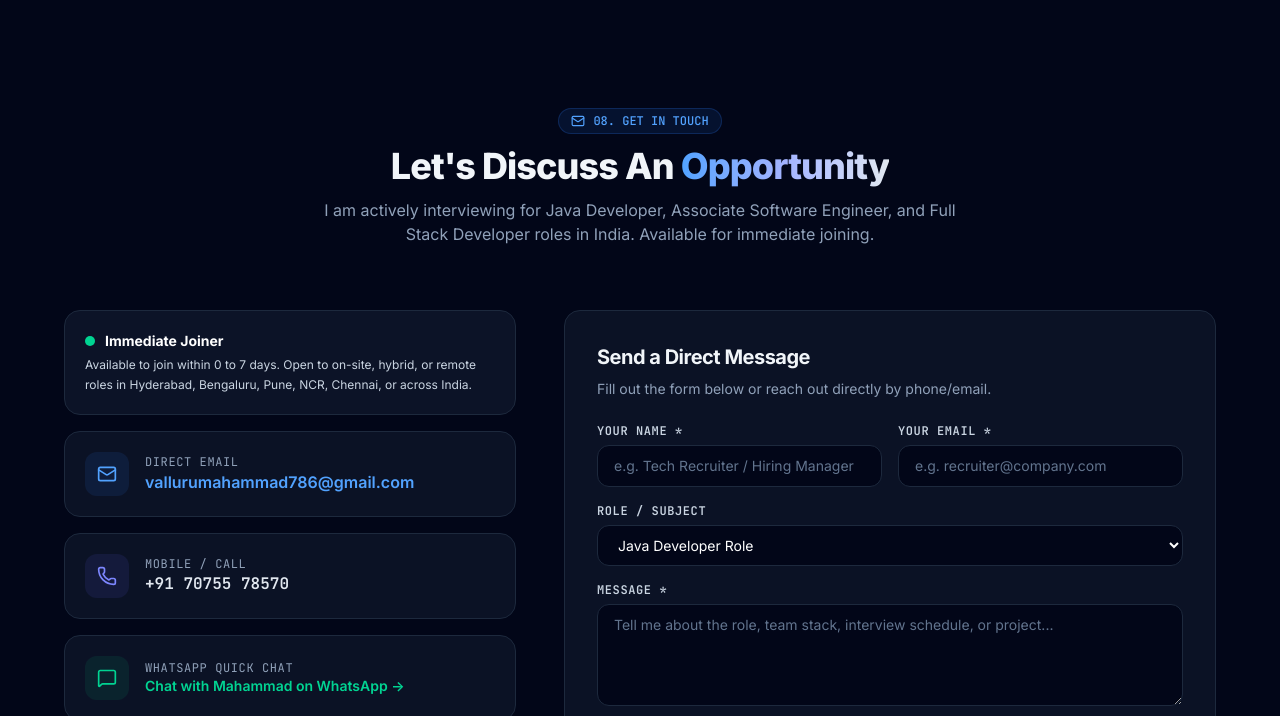
Test: Functional Tests › submits contact form and displays success state
The width and height of the screenshot is (1280, 716).
Type "Tech Recruiter" into the field labelled "Your Name *" at coordinates (740, 466), box [597,445,882,487]
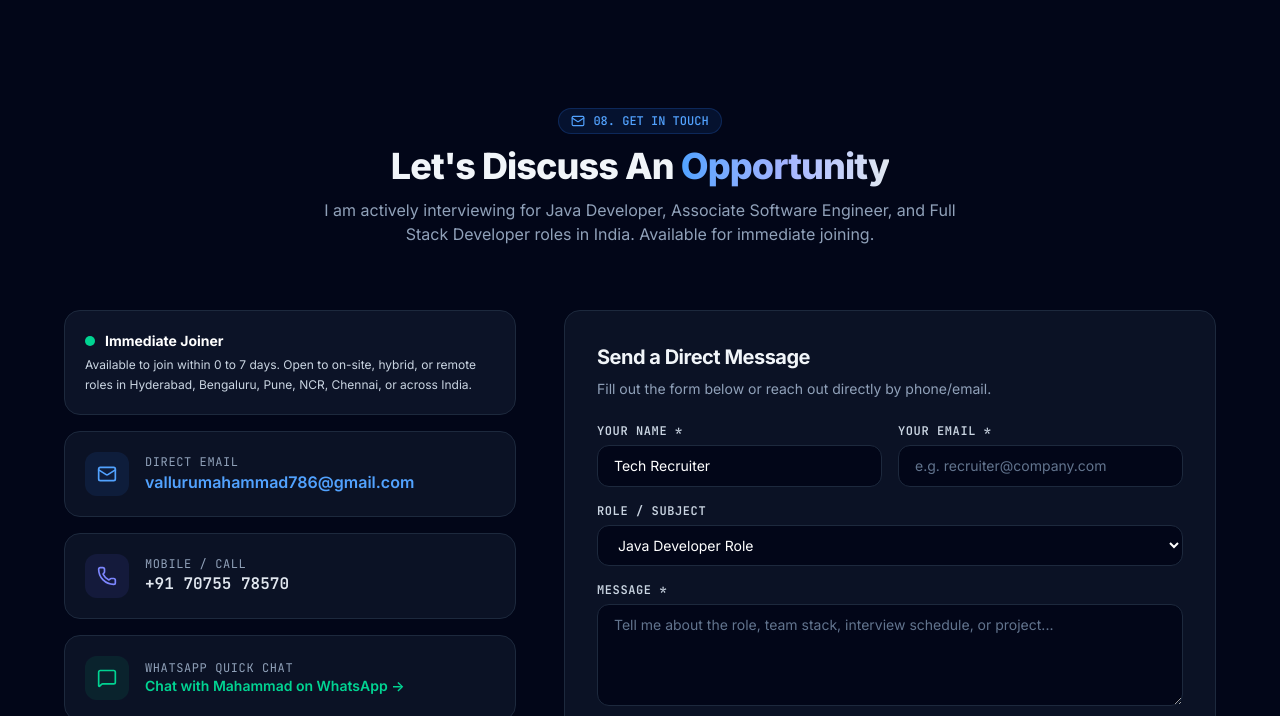
Type "recruiter@company.com" into the field labelled "Your Email *" at coordinates (1040, 466), box [898,445,1183,487]
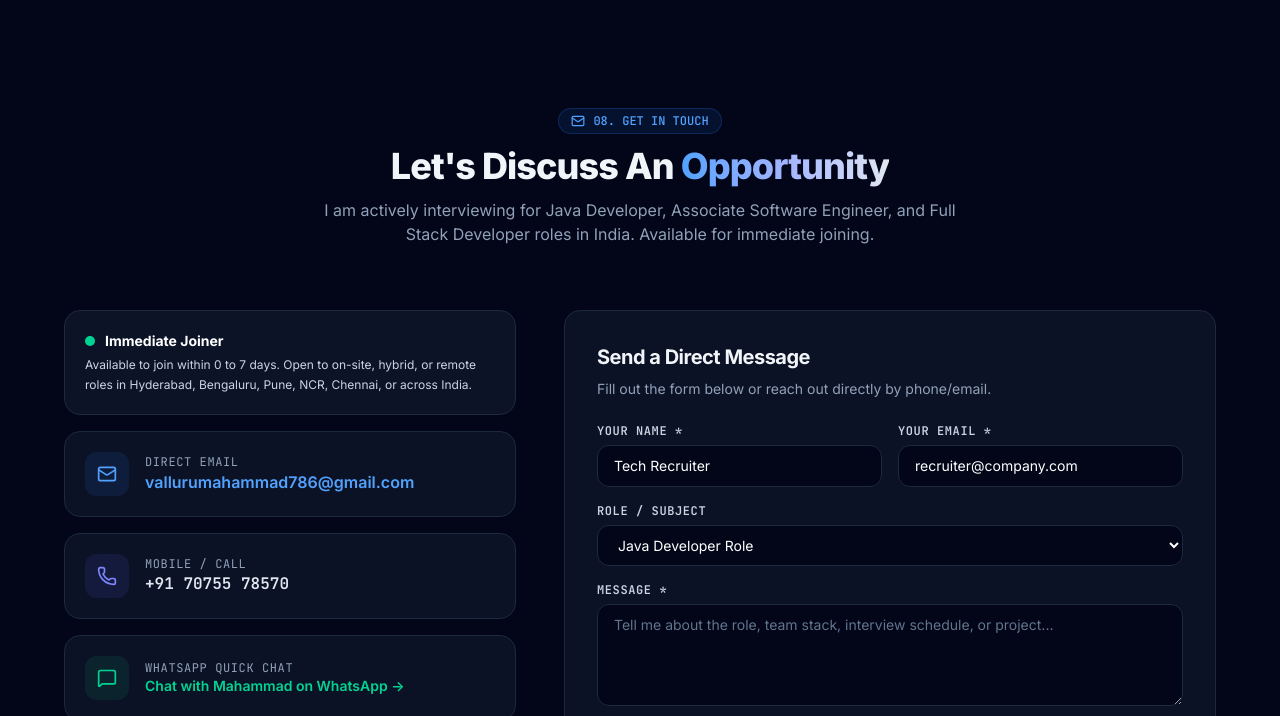
Replace the text in the text box labelled "Message *" with "We would love to interview you for a Java Developer position." at coordinates (890, 655), box [597,604,1183,706]
(page scrolled)
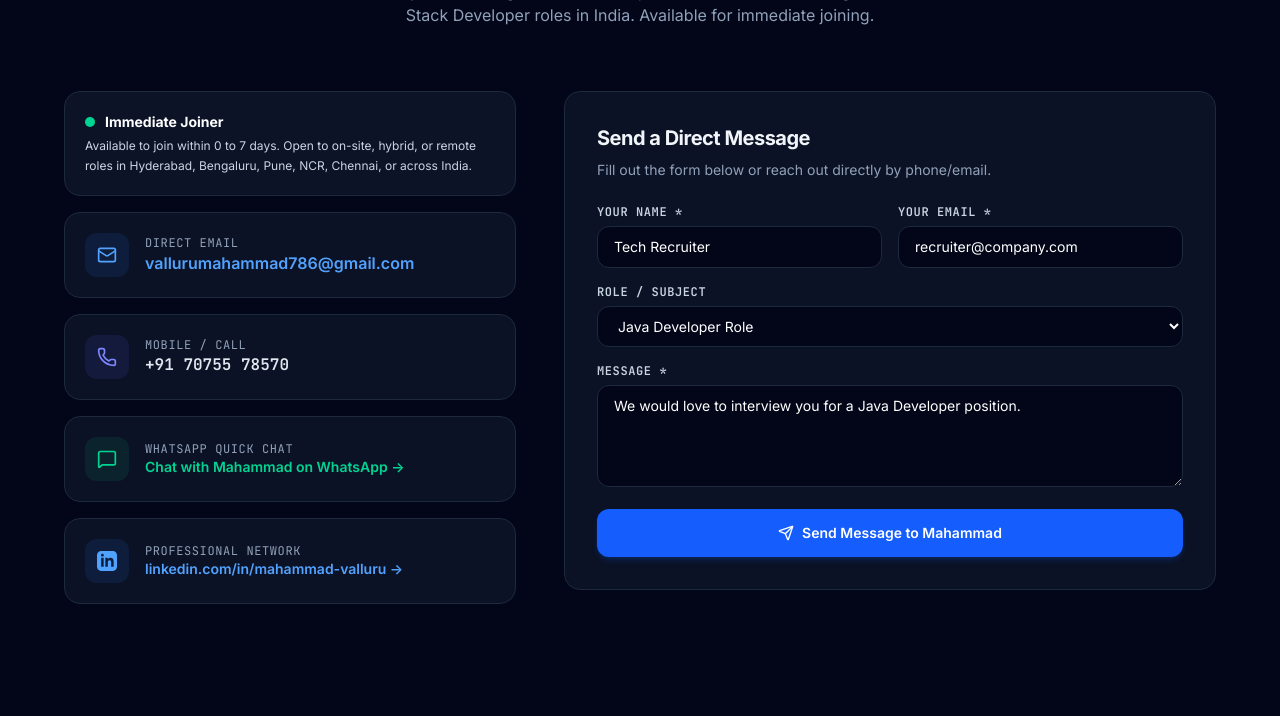
Click the button "Send Message to Mahammad" at coordinates (890, 533), box [597,509,1183,557]
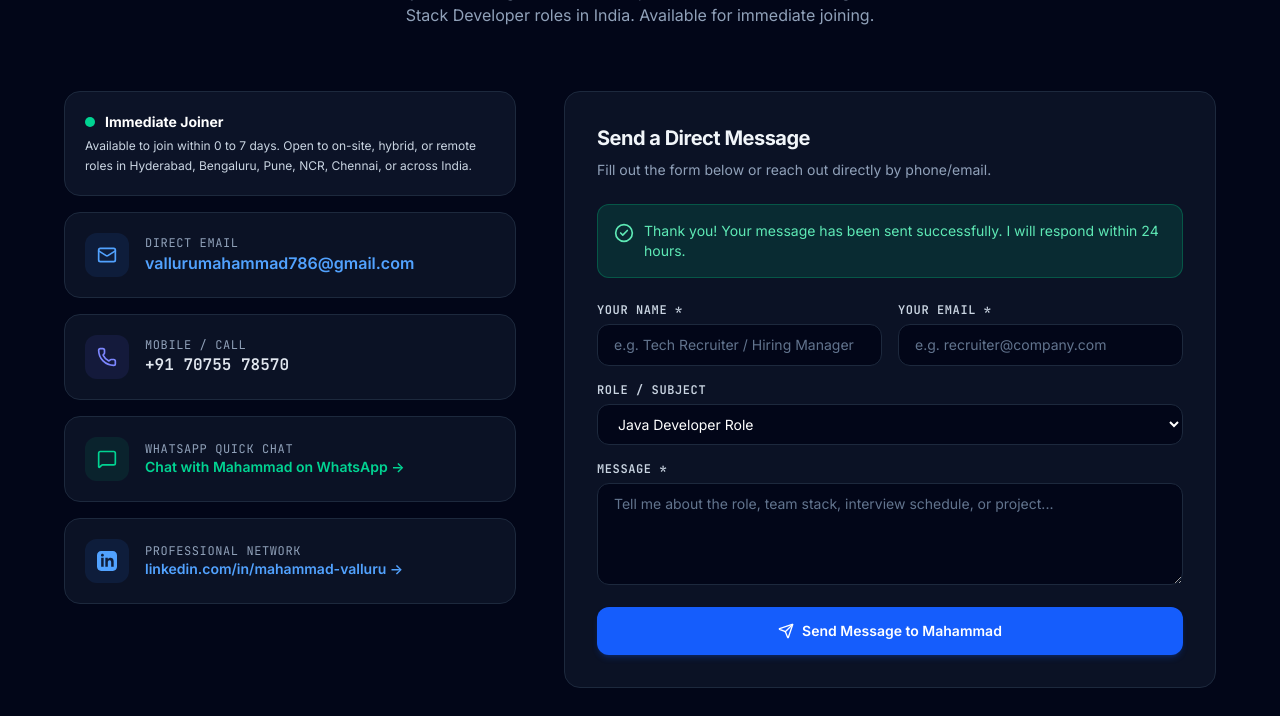
Expected: the text "Your message has been sent successfully" is shown, [644,222,1159,259]
